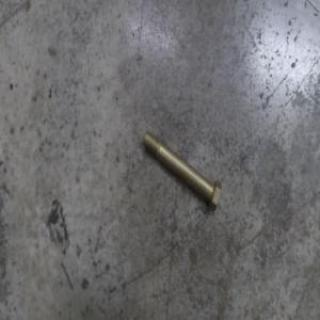Bolttrack_idkeyframe: (141, 127, 221, 213)
